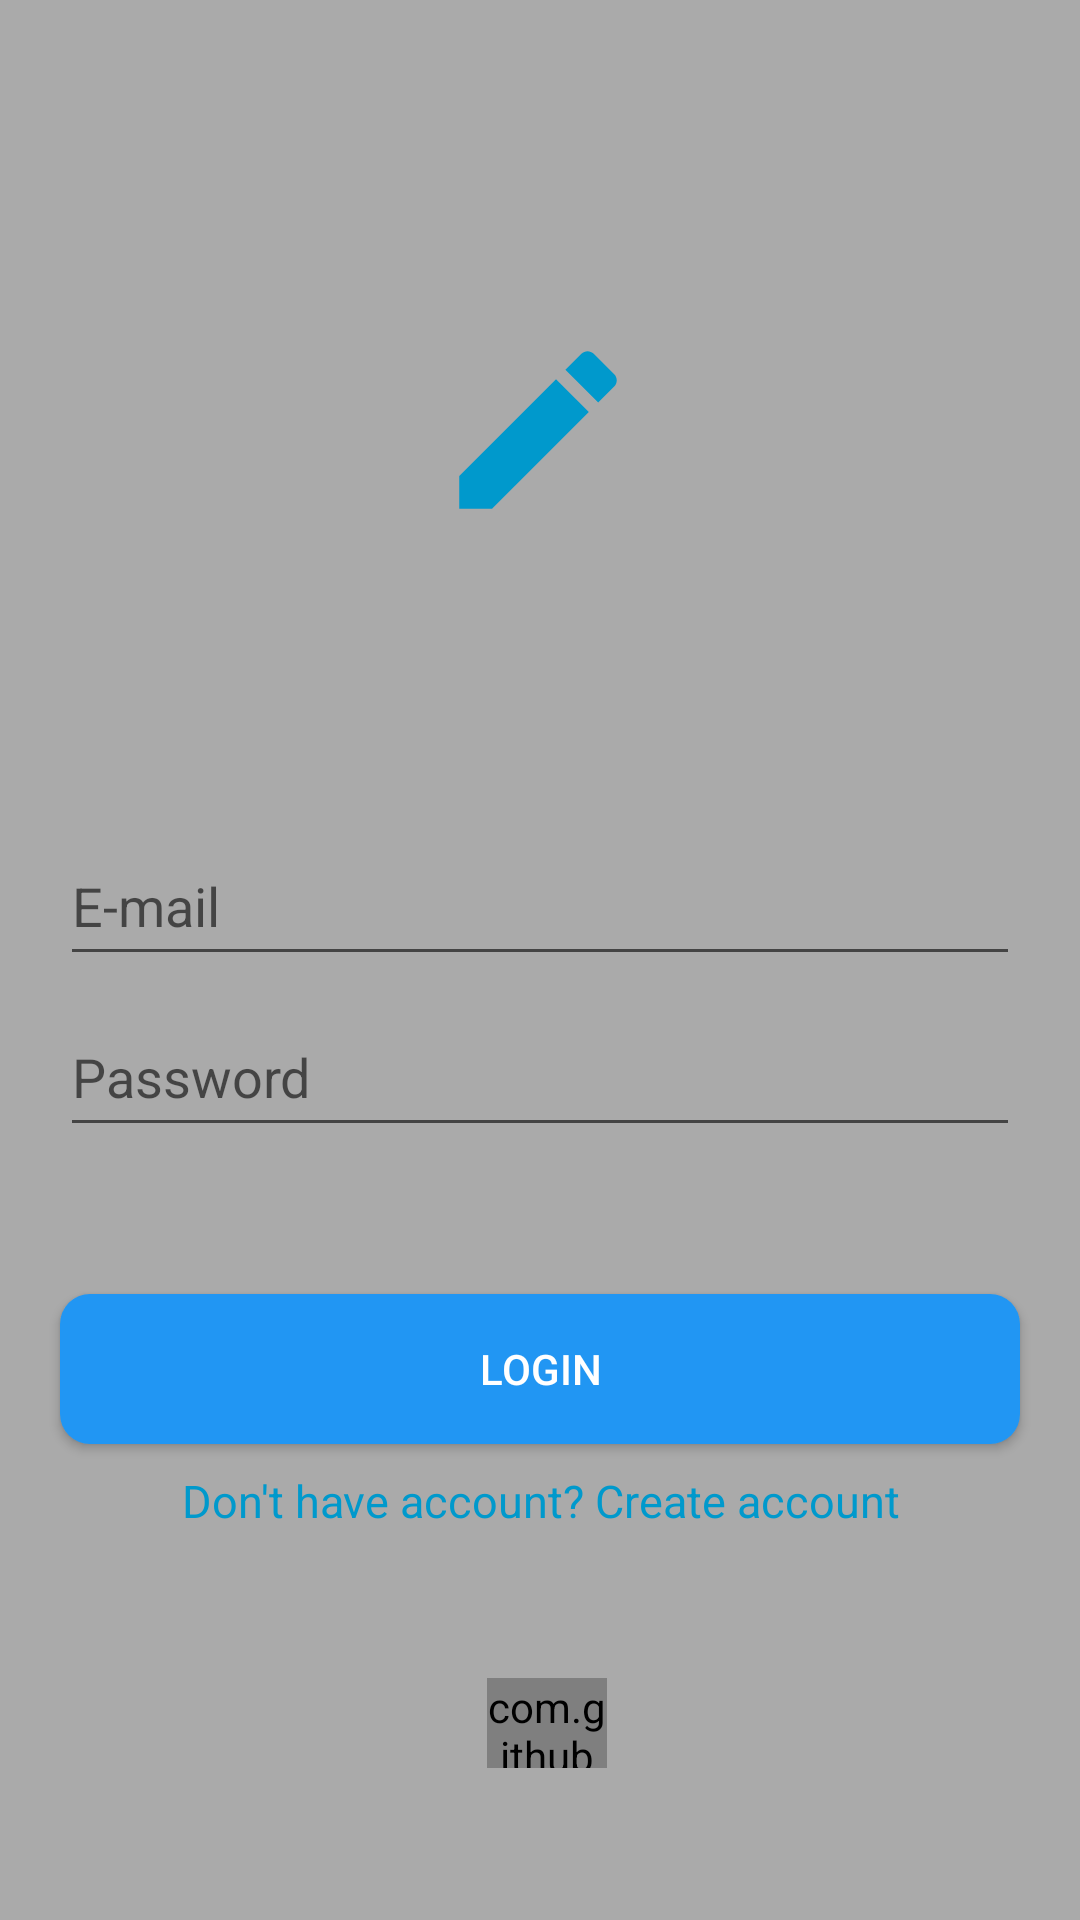

Locate icon controls on the screen. Image size 1080px x 1920px, boxes as Rect(x1, y1, x2, y2).
edit: Rect(459, 351, 617, 509)
